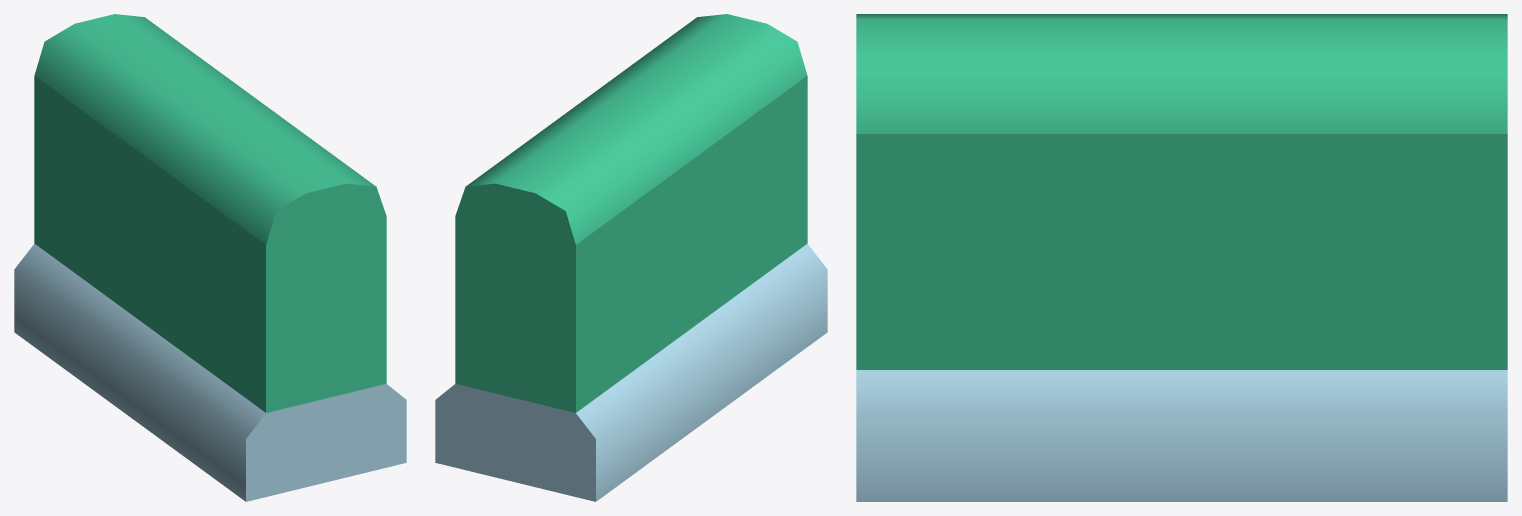
File: hedgeLarge.fbx
3 views of the same model, side by side, from view 1: azimuth 30°, elevation 25°; view 2: azimuth 150°, elevation 25°; view 3: azimuth 270°, elevation 25° (orthographic). The views are drawn at different scales.
Visible parts, largest first — view 1: hedgeLarge; view 2: hedgeLarge; view 3: hedgeLarge.
Boxes of the visible parts, left/top/right/bottom form: hedgeLarge: left=14, top=14, right=406, bottom=501; hedgeLarge: left=435, top=14, right=827, bottom=501; hedgeLarge: left=856, top=14, right=1507, bottom=501.
Size of the model in its own units: 4 by 7 by 10.
